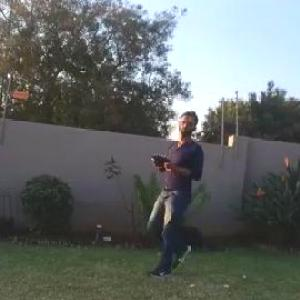follow: (140, 104, 208, 282)
